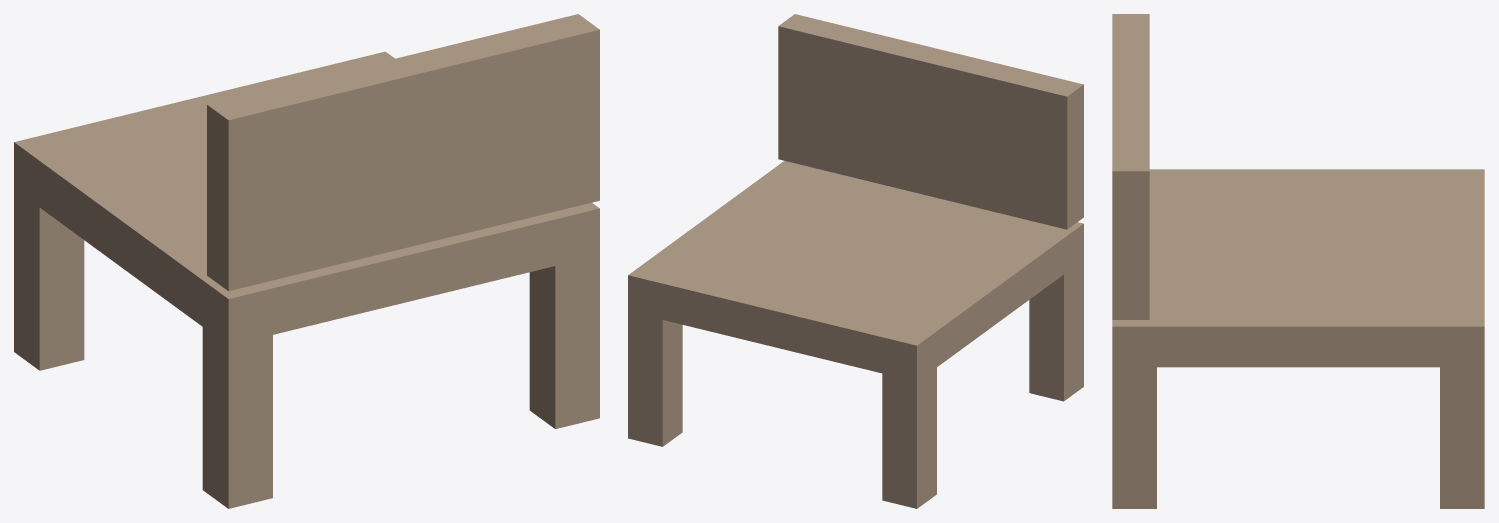
The model's file is chair.glb.
3 renders of one model, left to right at view 1: azimuth 30°, elevation 25°; view 2: azimuth 150°, elevation 25°; view 3: azimuth 270°, elevation 25°, orthographic. The views are drawn at different scales.
Bounding box in the file's own units: 1 × 1 × 1.
